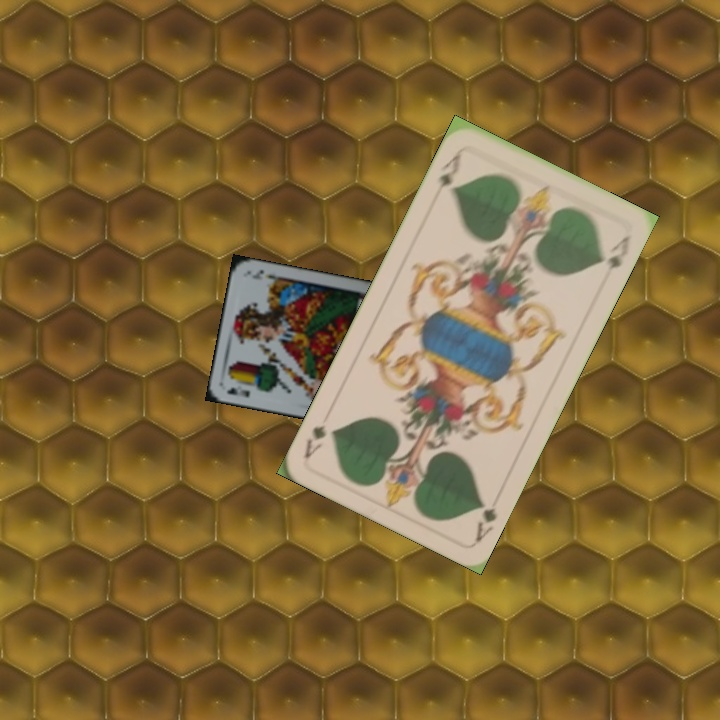EK: (223, 383, 253, 400)
GA: (430, 145, 465, 200), (471, 497, 500, 544)
